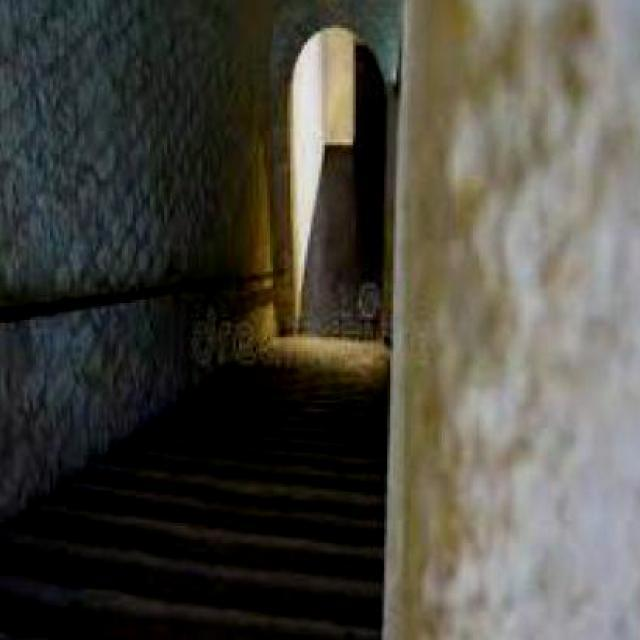stair: (23, 451, 359, 626)
